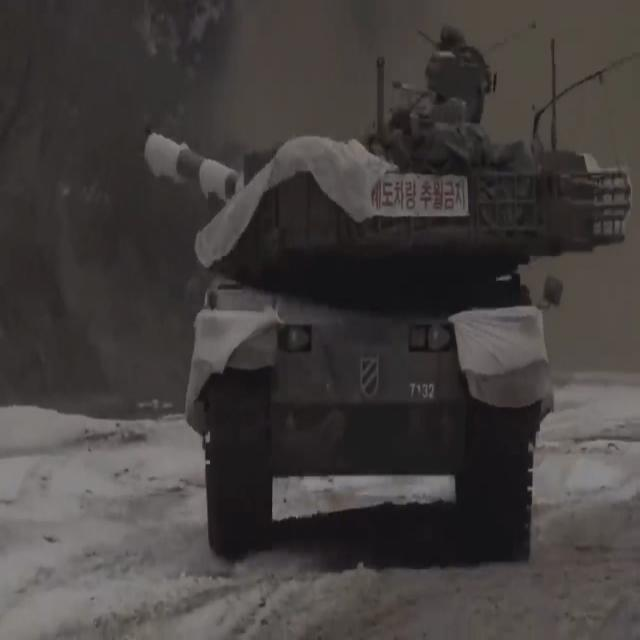korea tank: (143, 18, 633, 570)
